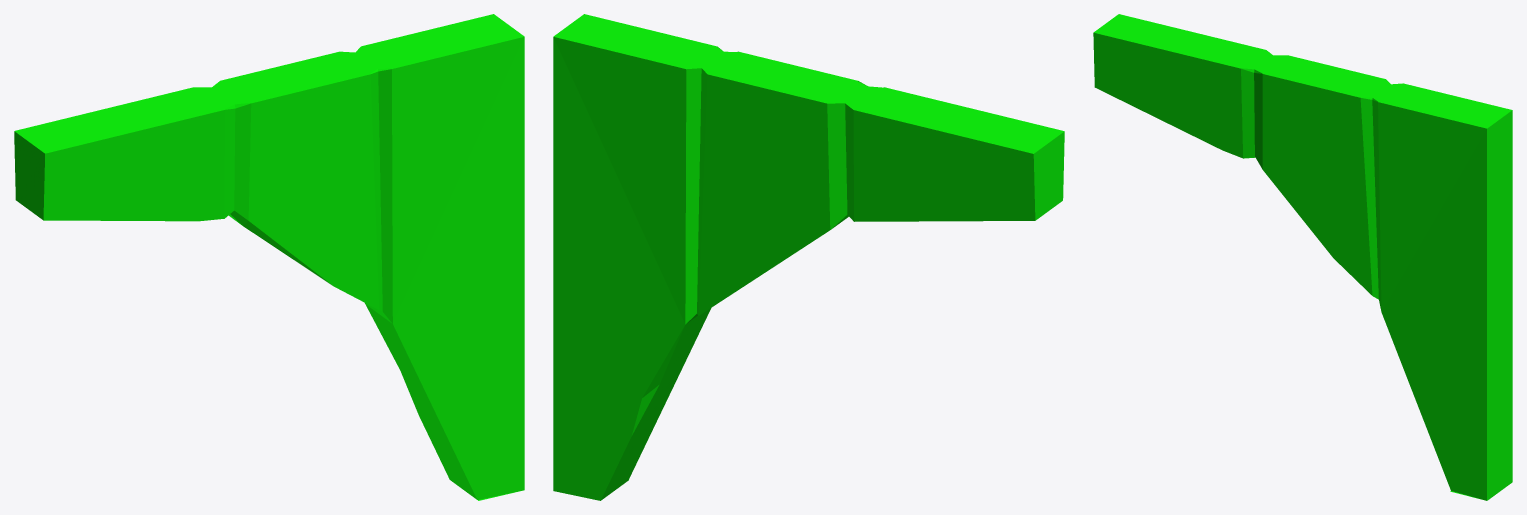
Rendered from SM_Arch_Curve_Half_Wood_B_1x1m.fbx.
3 renders of one model, left to right at view 1: azimuth 30°, elevation 25°; view 2: azimuth 150°, elevation 25°; view 3: azimuth 330°, elevation 25°, orthographic. The views are drawn at different scales.
Parts seen in each view (by area): view 1: arch-curve-half-wood-b-1x1m; view 2: arch-curve-half-wood-b-1x1m; view 3: arch-curve-half-wood-b-1x1m.
Part boxes in pixels (<box>): arch-curve-half-wood-b-1x1m: <box>14,14,524,500</box>; arch-curve-half-wood-b-1x1m: <box>553,14,1064,500</box>; arch-curve-half-wood-b-1x1m: <box>1093,14,1512,500</box>.
Size of the model in its own units: 0.9632 by 0.8703 by 0.1078.
